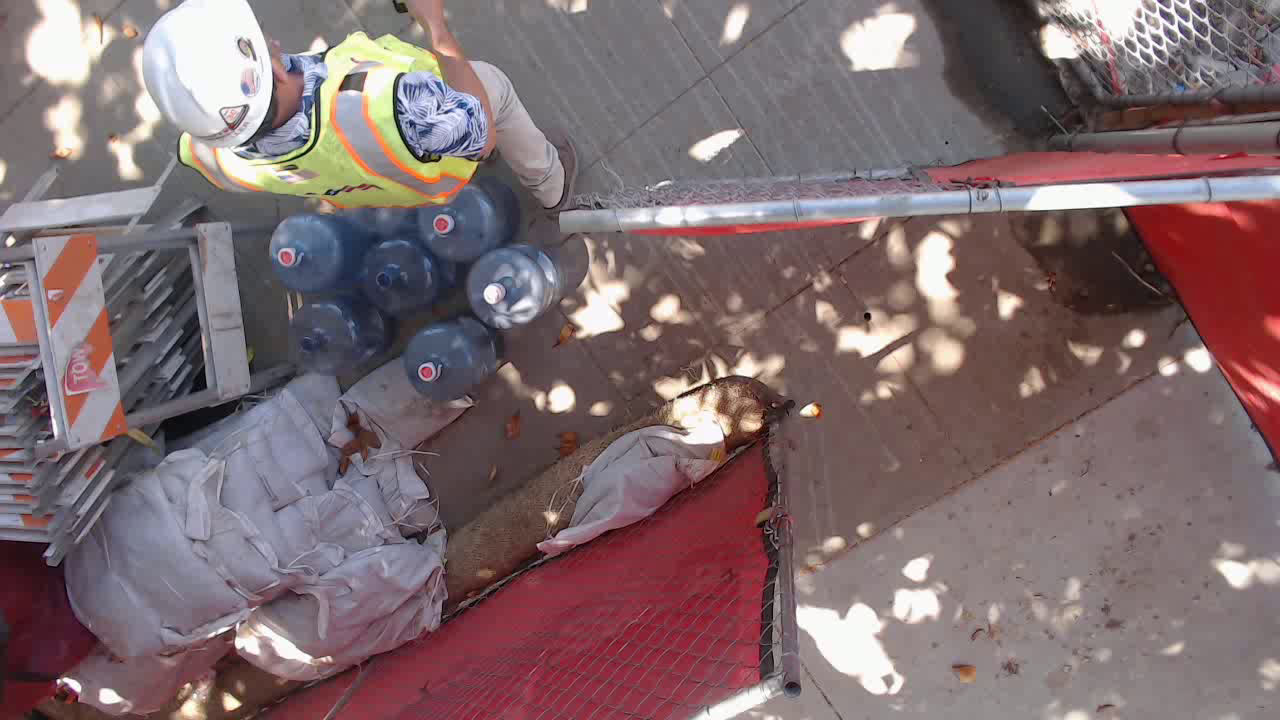hardhat: (140, 2, 274, 154)
safetyvest: (178, 25, 482, 215)
